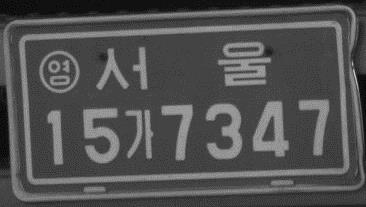1: (43, 107, 69, 167)
3: (205, 101, 243, 160)
4: (250, 98, 292, 158)
5: (81, 104, 121, 165)
7: (159, 101, 195, 163), (296, 97, 332, 157)
가: (122, 108, 156, 161)
서울_D: (94, 39, 272, 93)
영: (37, 49, 80, 96)
